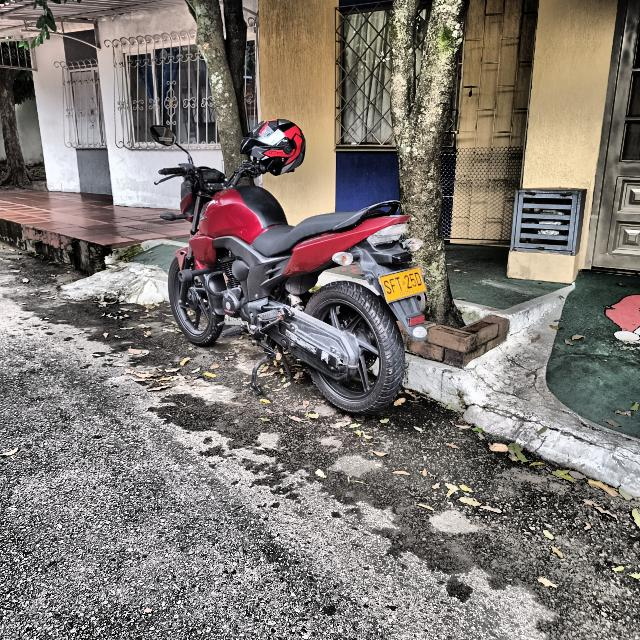plate: (379, 266, 427, 303)
